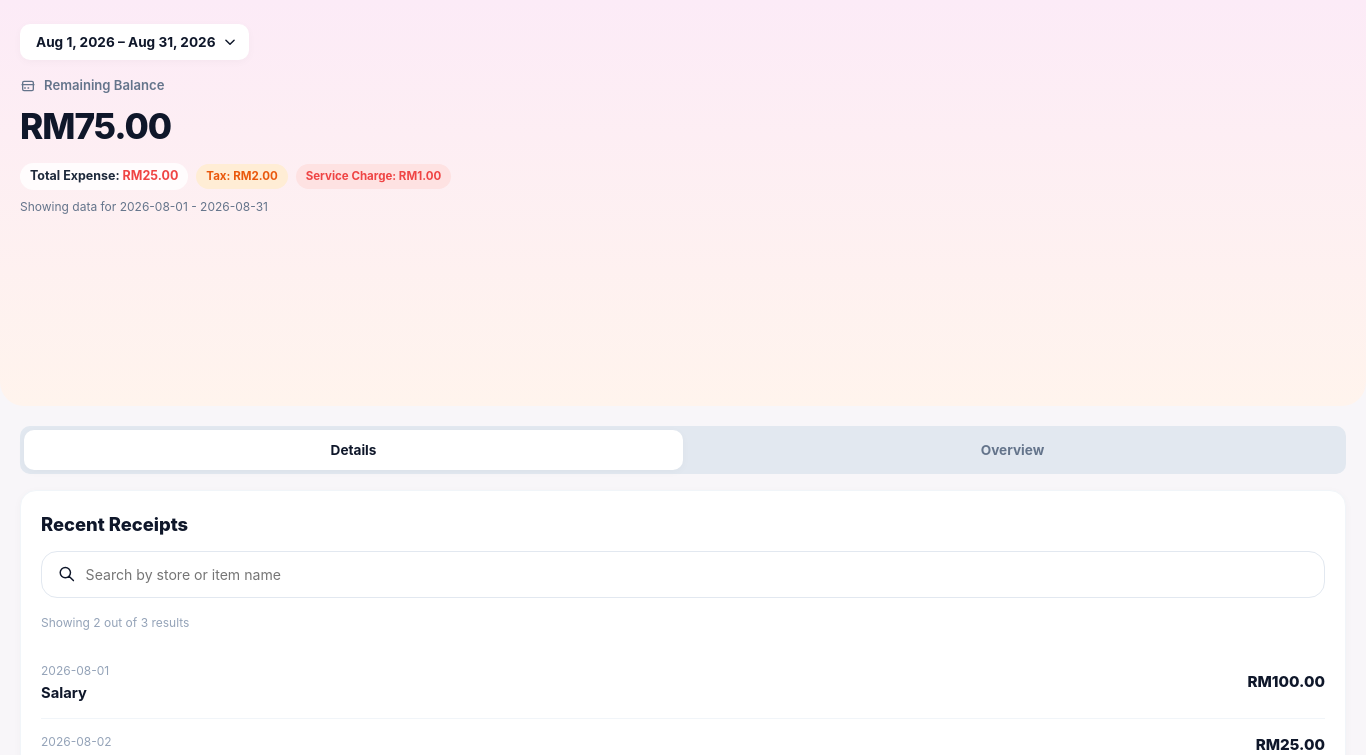
Test: HomeDashboardView › updates totals and receipt rows when the selected cycle changes
The image size is (1366, 755).
Check: the text "RM75.00" is shown, box 20,105 -> 171,147
Select "Jul 1, 2026 – Jul 31, 2026" in the dropdown: x=134, y=42 20,24 -> 249,60
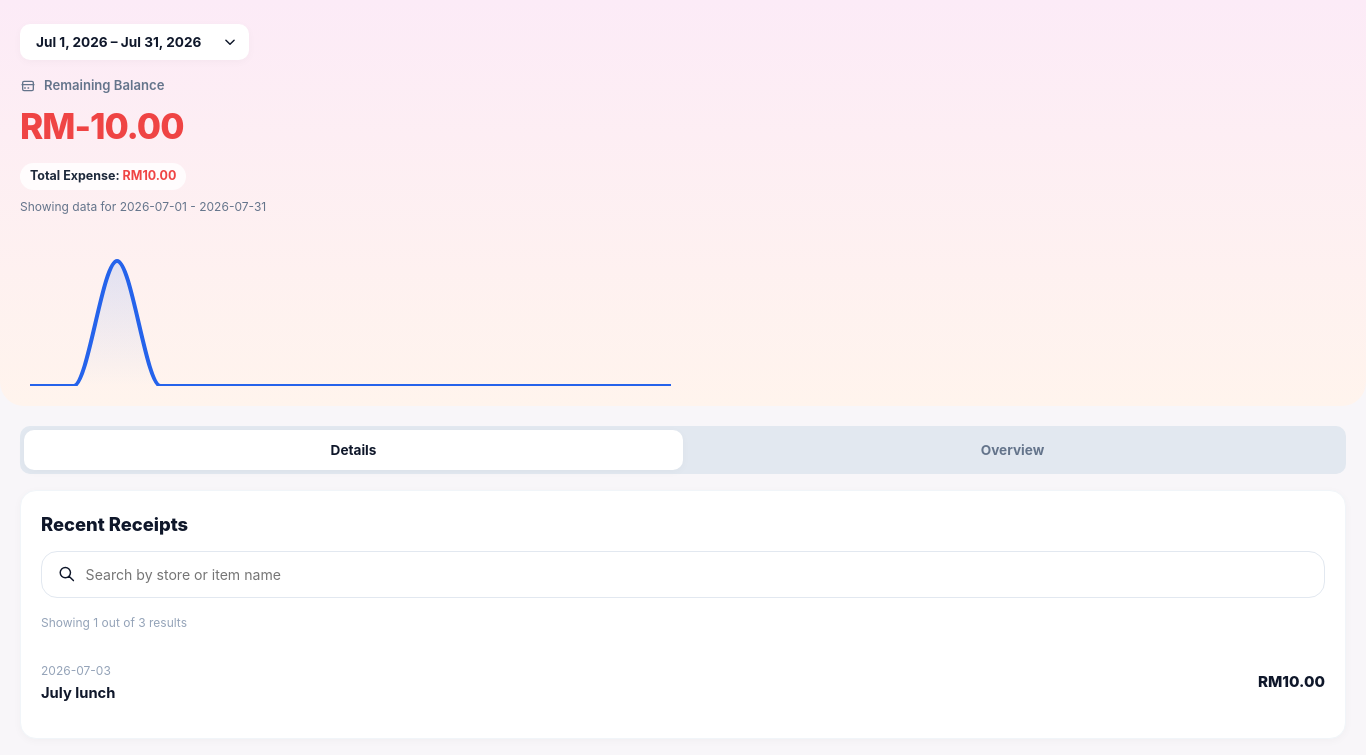
Check: the text "July lunch" is shown, box 41,682 -> 115,704
